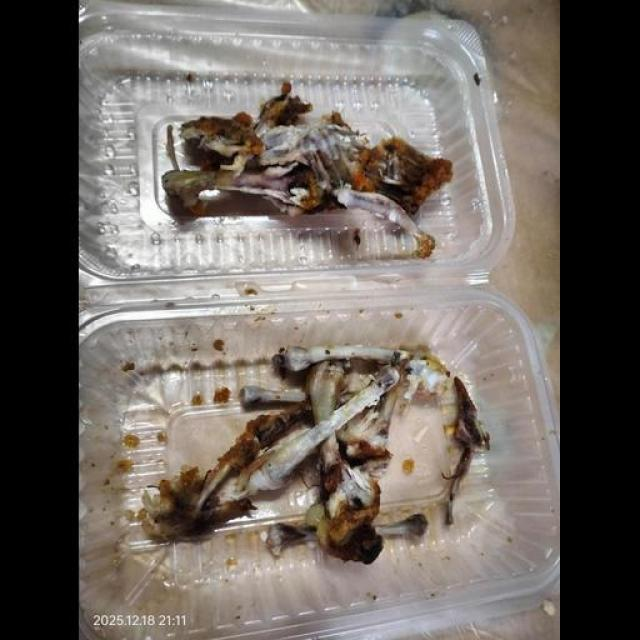organic: (126, 33, 506, 590)
